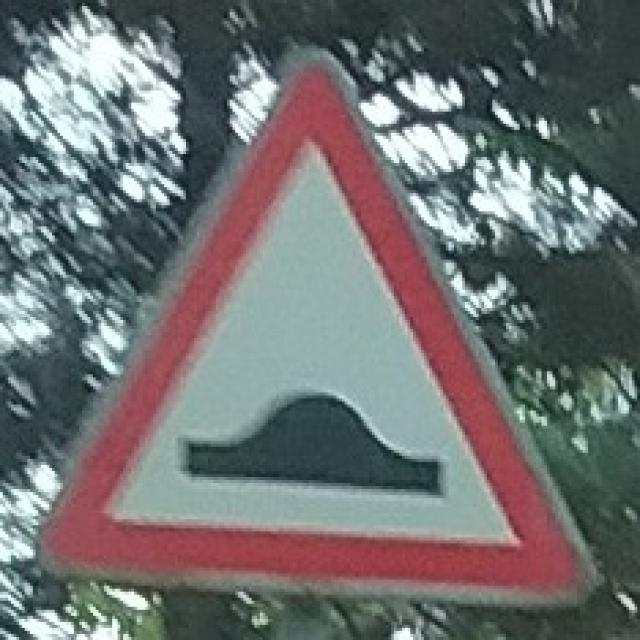HUMP_OR_ROUGH_ROAD: (34, 53, 601, 600)
